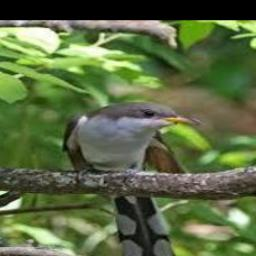Cuckoo: (64, 100, 200, 256)
